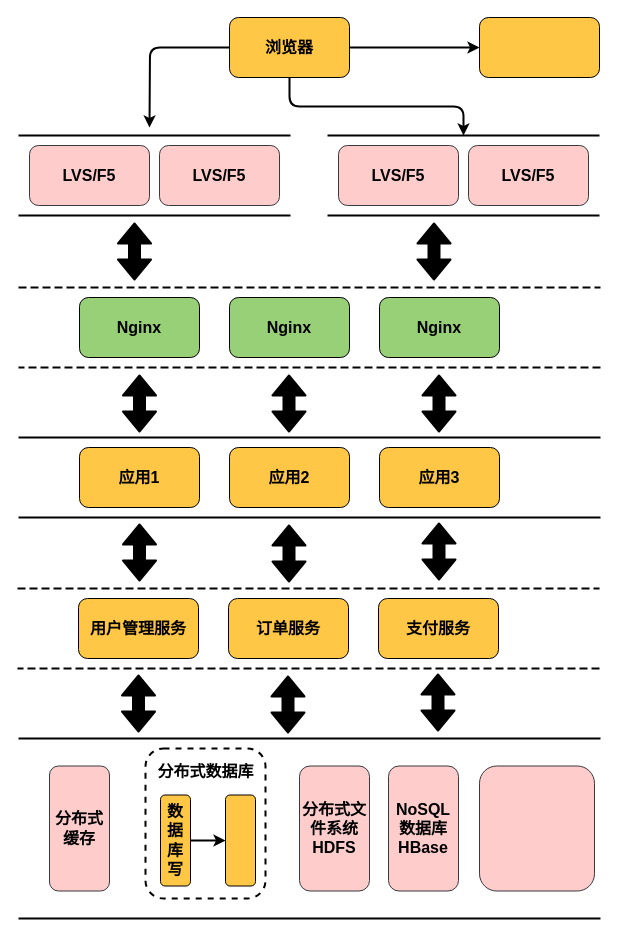
The diagram is 617 pixels wide and 937 high, and some of its shapes have lost their labels. Here are the shapes that lost their labels. From the top down, the centre of each, then its label:
At point (539, 47): "DNS服务器".
At point (240, 840): "数据库读".
At point (536, 828): "搜索引擎ElasticSearch".
